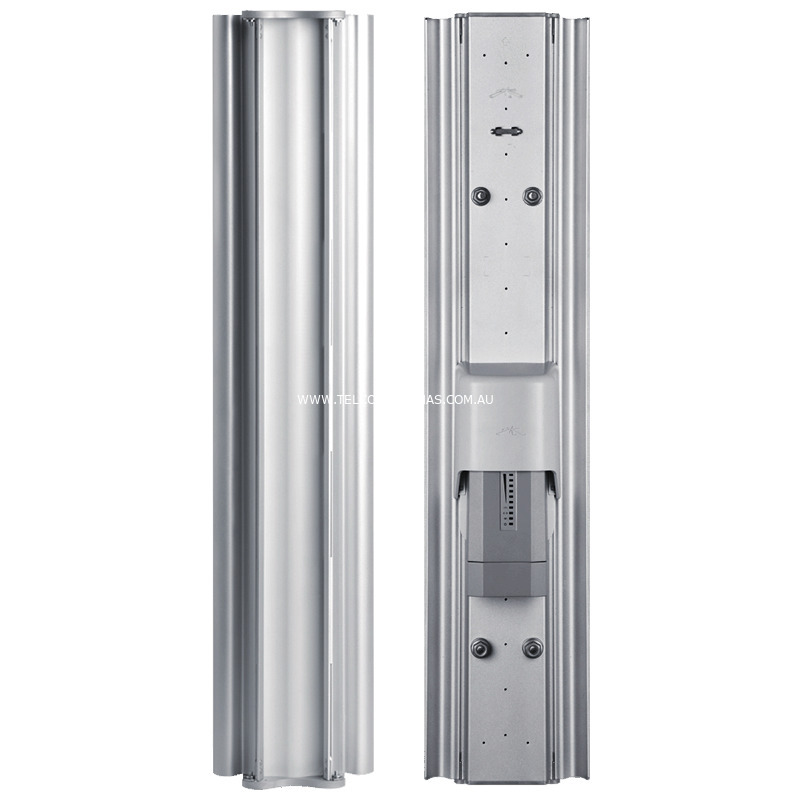sa: (415, 2, 615, 793), (200, 5, 386, 798)
